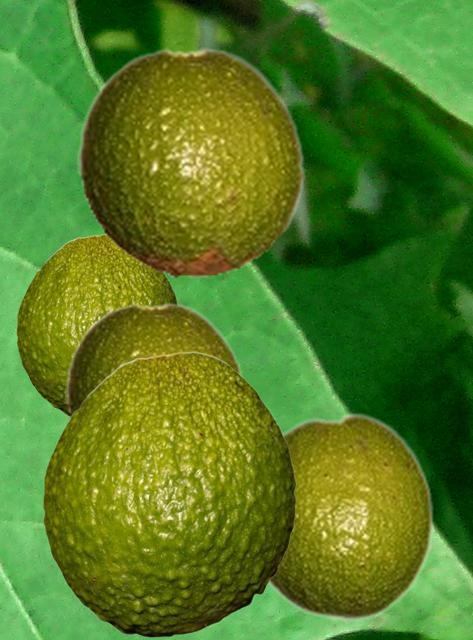avocado: (42, 351, 295, 636), (77, 47, 306, 278), (267, 411, 434, 622), (16, 233, 177, 416), (65, 302, 247, 421)
